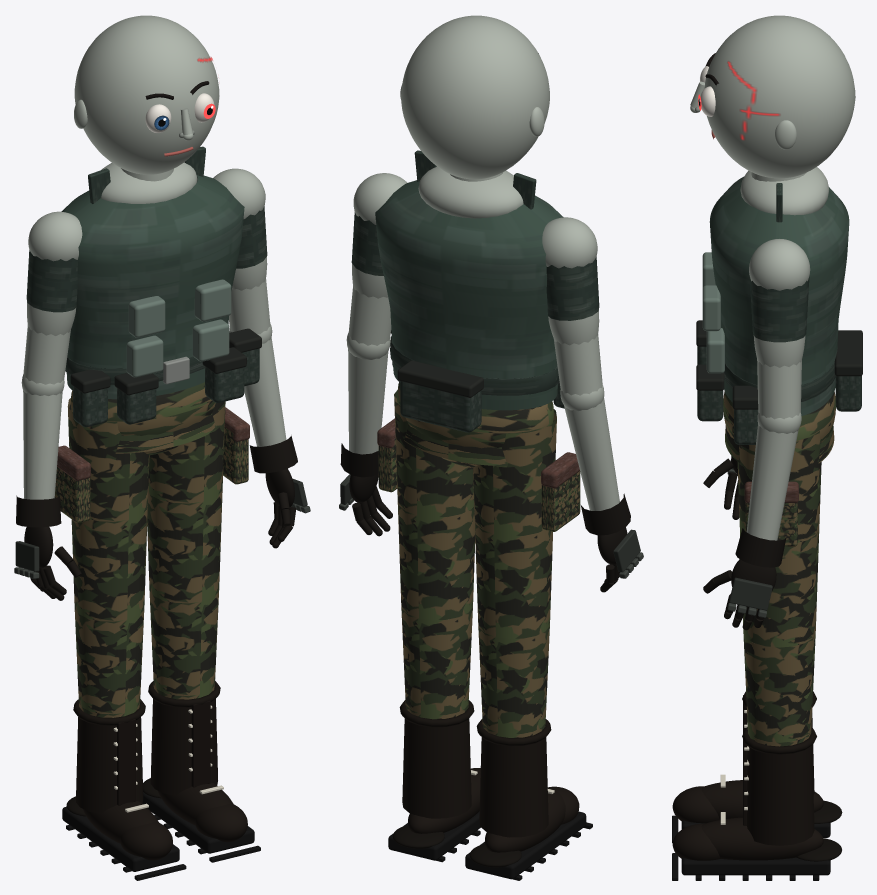
The model's file is 06-cyborg.glb.
3 renders of one model, left to right at view 1: azimuth 30°, elevation 25°; view 2: azimuth 150°, elevation 25°; view 3: azimuth 270°, elevation 25°, orthographic. The views are drawn at different scales.
Size of what is drawn, in the model's own units: 0.6344 by 1.75 by 0.3656.
28 materials, 7 textured.
